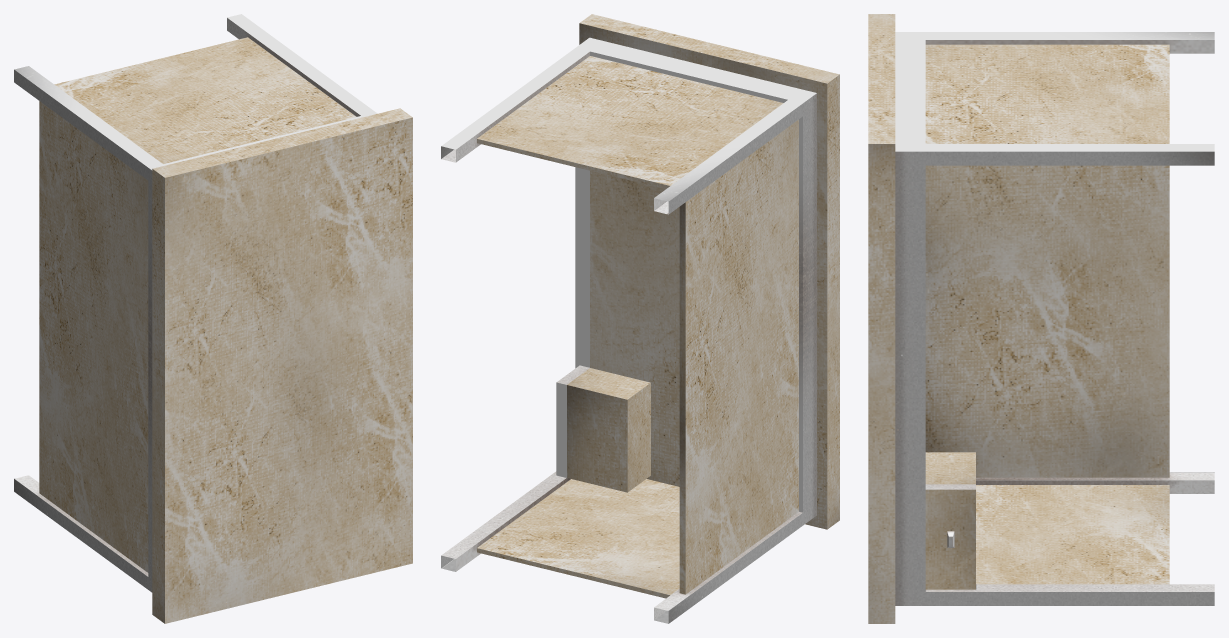
Rendered from bright_marble.dae.
3 views of the same model, side by side, from view 1: azimuth 30°, elevation 25°; view 2: azimuth 150°, elevation 25°; view 3: azimuth 270°, elevation 25° (orthographic). The views are drawn at different scales.
Visible parts, largest first — view 1: Desk_Desk_Cube; view 2: Desk_Desk_Cube; view 3: Desk_Desk_Cube.
Boxes of the visible parts, box(x1,y1,x2,y2) form: Desk_Desk_Cube: box(14, 14, 412, 623); Desk_Desk_Cube: box(441, 14, 839, 623); Desk_Desk_Cube: box(868, 14, 1214, 623).
Bounding box in the file's own units: 0.4906 × 0.552 × 0.8437.
1 material, 1 textured.
